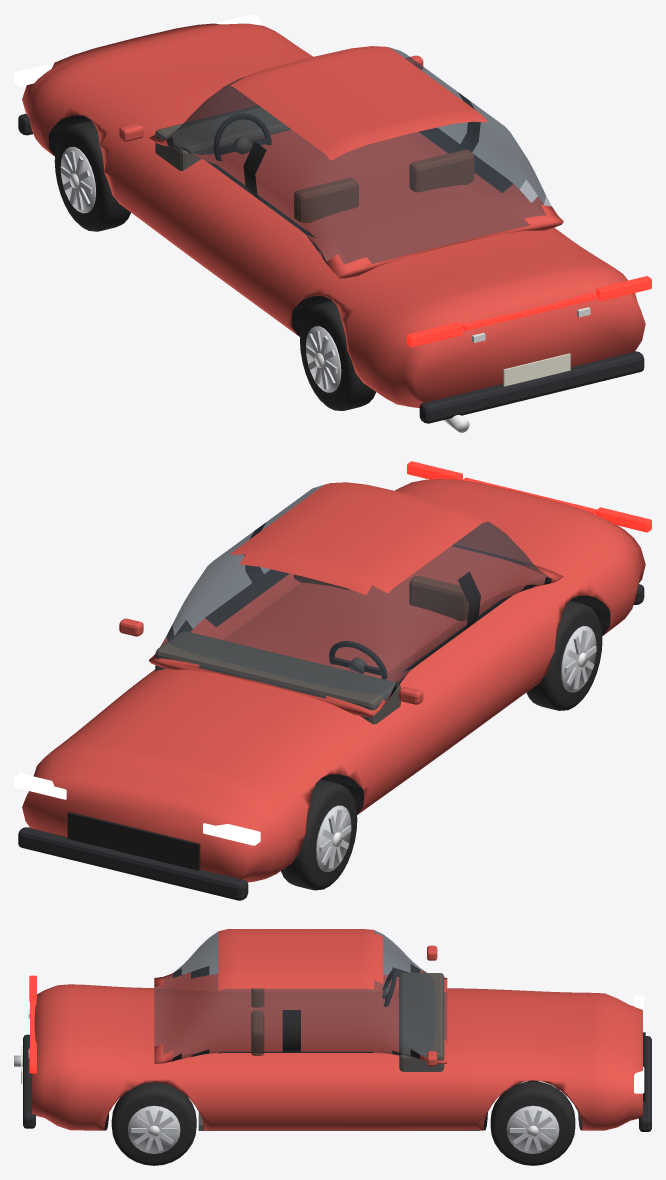
Rendered from sedan.glb.
3 views of the same model, one above another, from view 1: azimuth 30°, elevation 25°; view 2: azimuth 150°, elevation 25°; view 3: azimuth 270°, elevation 25° (orthographic). The views are drawn at different scales.
Parts seen in each view (by area): view 1: Body.001, Glass.001, Interior.001, Wheel_FL.001, Wheel_RL.001, Lights_Tail.001, SteeringWheel.001, Lights_Head.001; view 2: Body.001, Glass.001, Interior.001, Wheel_FL.001, Wheel_RL.001, Lights_Tail.001, Lights_Head.001, SteeringWheel.001; view 3: Body.001, Glass.001, Wheel_FR.001, Wheel_RR.001, Interior.001, Lights_Tail.001, Lights_Head.001.
Part boxes in pixels (left/top/right/bottom): Body.001: left=18, top=23, right=645, bottom=432; Glass.001: left=161, top=47, right=551, bottom=264; Interior.001: left=155, top=105, right=474, bottom=222; Wheel_FL.001: left=54, top=120, right=130, bottom=231; Wheel_RL.001: left=300, top=301, right=375, bottom=410; Lights_Tail.001: left=407, top=276, right=651, bottom=347; SteeringWheel.001: left=213, top=113, right=271, bottom=161; Lights_Head.001: left=14, top=14, right=260, bottom=86; Body.001: left=18, top=479, right=645, bottom=900; Glass.001: left=161, top=485, right=550, bottom=700; Interior.001: left=155, top=574, right=468, bottom=724; Wheel_FL.001: left=281, top=779, right=357, bottom=890; Wheel_RL.001: left=526, top=600, right=602, bottom=710; Lights_Tail.001: left=407, top=461, right=651, bottom=532; Lights_Head.001: left=14, top=773, right=260, bottom=845; SteeringWheel.001: left=329, top=641, right=387, bottom=679; Body.001: left=14, top=929, right=651, bottom=1131; Glass.001: left=154, top=930, right=447, bottom=1058; Wheel_FR.001: left=490, top=1081, right=575, bottom=1165; Wheel_RR.001: left=111, top=1082, right=196, bottom=1165; Interior.001: left=198, top=973, right=479, bottom=1130; Lights_Tail.001: left=29, top=975, right=36, bottom=1073; Lights_Head.001: left=634, top=995, right=644, bottom=1093.
Size of the model in its own units: 2.08 by 1.44 by 4.96.
